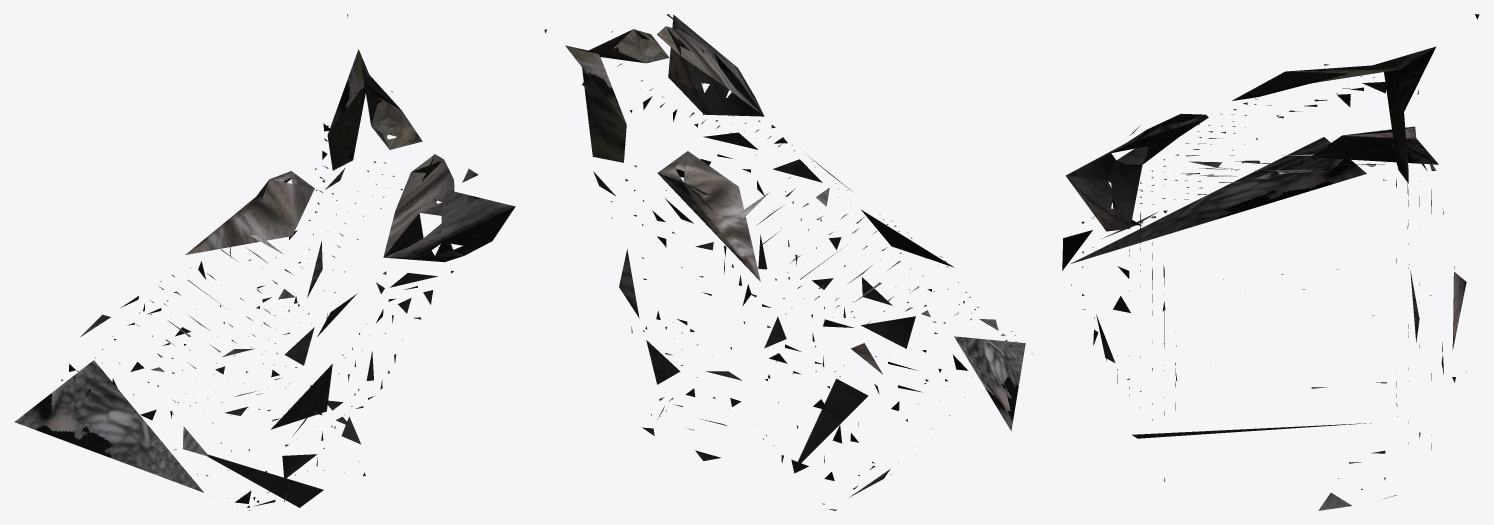
The model's file is stratified_ridge_lod0.glb.
3 renders of one model, left to right at view 1: azimuth 30°, elevation 25°; view 2: azimuth 150°, elevation 25°; view 3: azimuth 270°, elevation 25°, orthographic. The views are drawn at different scales.
Visible parts, largest first — view 1: stratified_ridge_lod0; view 2: stratified_ridge_lod0; view 3: stratified_ridge_lod0.
Part boxes in pixels (x1=…): stratified_ridge_lod0: x1=14, y1=14, x2=515, y2=510; stratified_ridge_lod0: x1=544, y1=14, x2=1033, y2=510; stratified_ridge_lod0: x1=1062, y1=14, x2=1479, y2=510.
Bounding box in the file's own units: 0.9106 × 0.8019 × 0.5615.
Materials: 1 (1 with a texture image).
